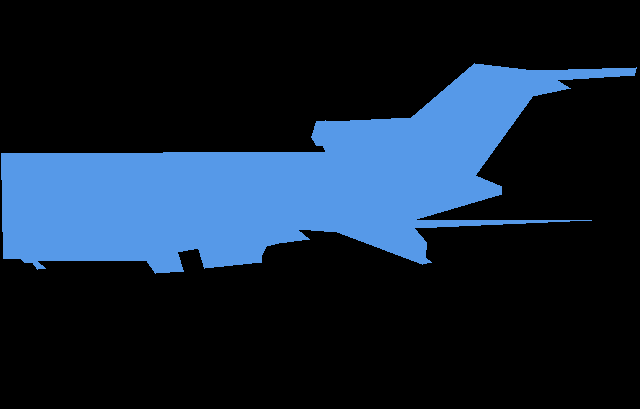Airplane: (1, 63, 636, 273)
